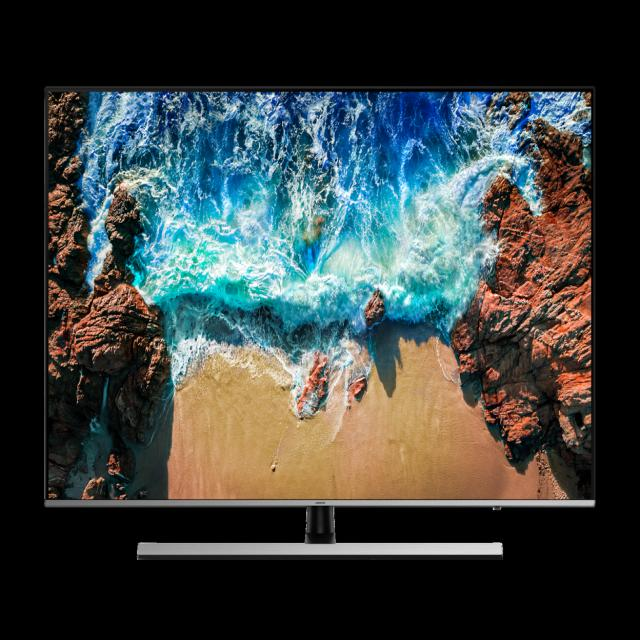electronics: (13, 69, 614, 583)
